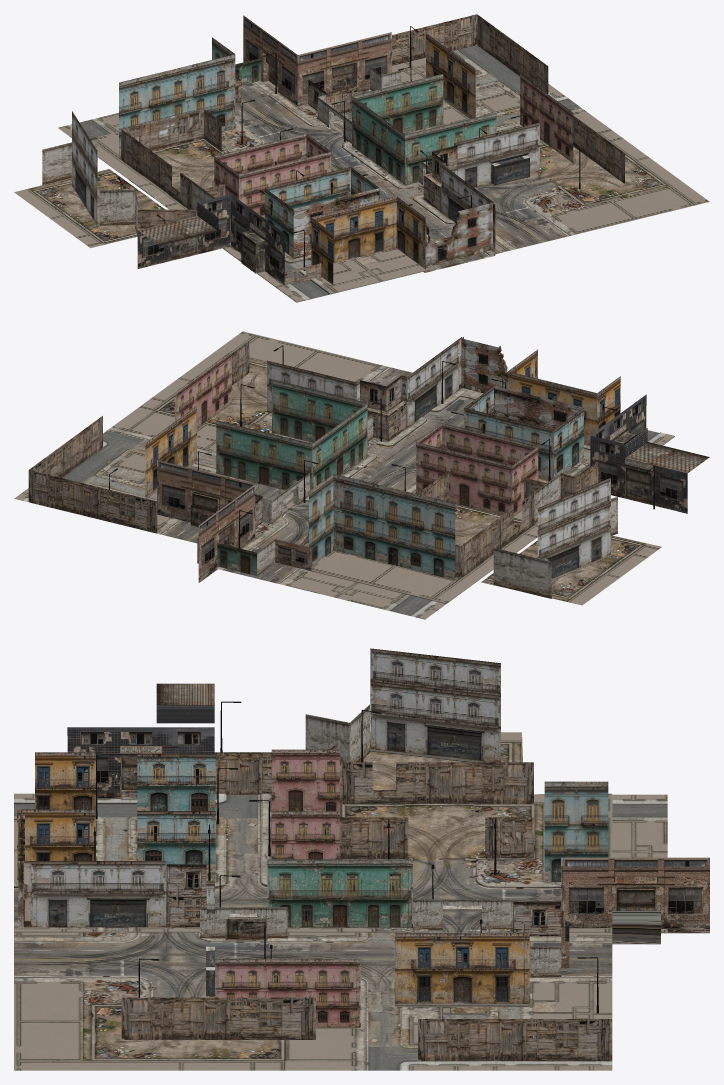
File: yösoghfiösbge.obj
3 views of the same model, one above another, from view 1: azimuth 30°, elevation 25°; view 2: azimuth 150°, elevation 25°; view 3: azimuth 270°, elevation 25° (orthographic). The views are drawn at different scales.
Visible parts, largest first — view 1: Empty018_34, Empty018_18, Empty018, Empty018_8, Empty018_6, Empty018_2, Empty018_19, Empty018_17, Empty018_12, Empty018_1, Empty018_5, Empty018_16 (+13 smaller); view 2: Empty018_34, Empty018, Empty018_8, Empty018_18, Empty018_2, Empty018_17, Empty018_33, Empty018_6, Empty018_5, Empty018_19, Empty018_30, Empty018_9 (+14 smaller); view 3: Empty018_34, Empty018_18, Empty018_33, Empty018_31, Empty018_9, Empty018_36, Empty018, Empty018_5, Empty018_4, Empty018_32, Empty018_16, Empty018_8 (+15 smaller).
Boxes of the visible parts, bbox=[...] form: Empty018_34: bbox=[14, 45, 709, 302]; Empty018_18: bbox=[121, 14, 624, 285]; Empty018: bbox=[235, 58, 496, 184]; Empty018_8: bbox=[119, 37, 235, 156]; Empty018_6: bbox=[293, 188, 495, 272]; Empty018_2: bbox=[214, 133, 331, 217]; Empty018_19: bbox=[297, 32, 391, 106]; Empty018_17: bbox=[137, 194, 230, 268]; Empty018_12: bbox=[454, 122, 539, 187]; Empty018_1: bbox=[311, 196, 396, 263]; Empty018_5: bbox=[265, 167, 378, 258]; Empty018_16: bbox=[231, 194, 284, 285]; Empty018_34: bbox=[14, 331, 674, 605]; Empty018: bbox=[197, 379, 367, 575]; Empty018_8: bbox=[309, 474, 455, 580]; Empty018_18: bbox=[28, 341, 598, 577]; Empty018_2: bbox=[416, 423, 537, 515]; Empty018_17: bbox=[590, 428, 709, 513]; Empty018_33: bbox=[537, 477, 610, 580]; Empty018_6: bbox=[461, 337, 583, 429]; Empty018_5: bbox=[464, 386, 583, 480]; Empty018_19: bbox=[157, 460, 254, 527]; Empty018_30: bbox=[215, 562, 445, 619]; Empty018_9: bbox=[356, 337, 461, 426]; Empty018_34: bbox=[14, 732, 612, 1070]; Empty018_18: bbox=[121, 743, 612, 1061]; Empty018_33: bbox=[370, 648, 500, 762]; Empty018_31: bbox=[394, 933, 529, 1006]; Empty018_9: bbox=[23, 861, 214, 928]; Empty018_36: bbox=[561, 857, 709, 933]; Empty018: bbox=[267, 859, 412, 927]; Empty018_5: bbox=[137, 753, 215, 878]; Empty018_4: bbox=[17, 752, 95, 880]; Empty018_32: bbox=[215, 959, 360, 1028]; Empty018_16: bbox=[67, 727, 214, 798]; Empty018_8: bbox=[544, 781, 608, 882].
Size of the model in its own units: 26.29 by 3.81 by 22.7.
39 materials, 37 textured.
